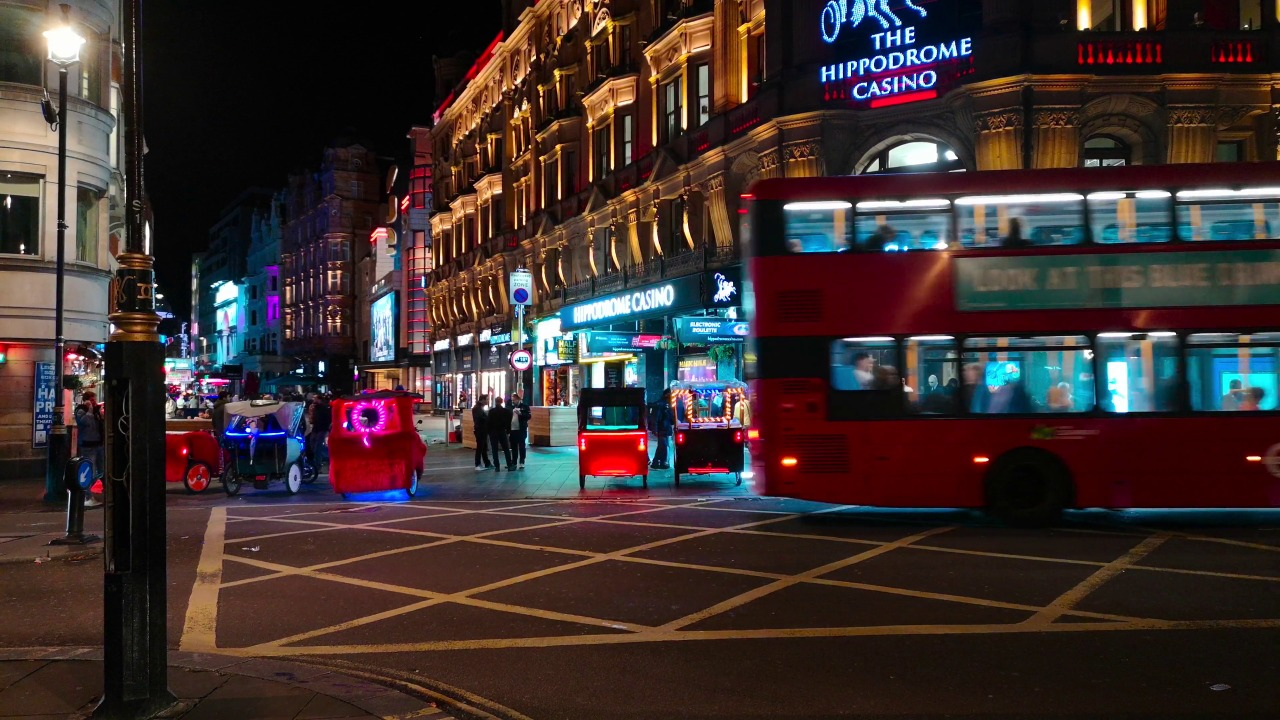car: (749, 171, 1271, 523), (331, 387, 432, 499), (225, 391, 309, 493), (673, 379, 746, 484), (575, 387, 645, 488), (170, 428, 228, 493)
person: (73, 390, 106, 507), (310, 387, 330, 476), (506, 394, 529, 469), (488, 398, 511, 472), (655, 382, 673, 471), (475, 394, 493, 475), (865, 218, 900, 254), (1000, 214, 1026, 253), (850, 350, 878, 386), (915, 372, 937, 401), (1226, 378, 1247, 405), (1249, 391, 1265, 411)
